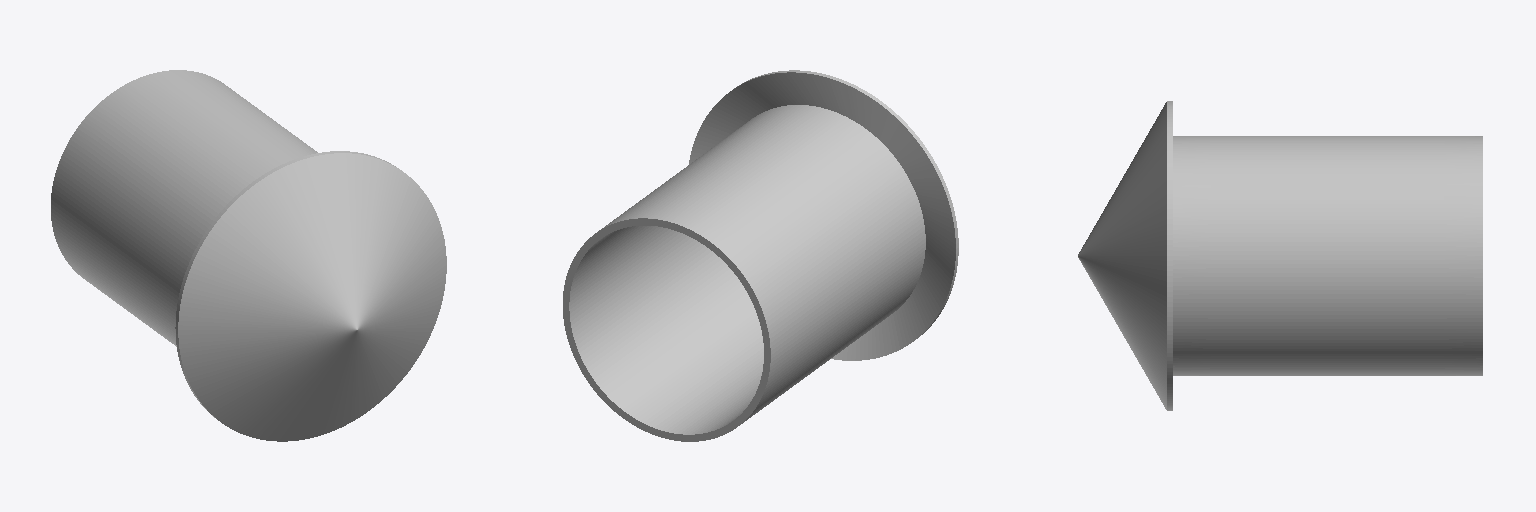
File: projeto.obj
3 views of the same model, side by side, from view 1: azimuth 30°, elevation 25°; view 2: azimuth 150°, elevation 25°; view 3: azimuth 270°, elevation 25° (orthographic).
Parts seen in each view (by area): view 1: Telhados__Telhado básico__Genérico - 125 mm__292121, Paredes__Parede básica__Genérico - 200 mm__291706, Paredes__Parede básica__Genérico - 200 mm__291707; view 2: Paredes__Parede básica__Genérico - 200 mm__291706, Paredes__Parede básica__Genérico - 200 mm__291707, Telhados__Telhado básico__Genérico - 125 mm__292121; view 3: Paredes__Parede básica__Genérico - 200 mm__291706, Paredes__Parede básica__Genérico - 200 mm__291707, Telhados__Telhado básico__Genérico - 125 mm__292121.
Part boxes in pixels (x1,y1,x2,y2): Telhados__Telhado básico__Genérico - 125 mm__292121: (175,151,446,441); Paredes__Parede básica__Genérico - 200 mm__291706: (51,70,317,299); Paredes__Parede básica__Genérico - 200 mm__291707: (51,208,177,346); Paredes__Parede básica__Genérico - 200 mm__291706: (563,105,925,354); Paredes__Parede básica__Genérico - 200 mm__291707: (563,230,925,441); Telhados__Telhado básico__Genérico - 125 mm__292121: (689,70,958,360); Paredes__Parede básica__Genérico - 200 mm__291706: (1173,136,1482,306); Paredes__Parede básica__Genérico - 200 mm__291707: (1173,307,1482,375); Telhados__Telhado básico__Genérico - 125 mm__292121: (1078,101,1172,410).
Bounding box in the file's own units: 800 × 800 × 1045.